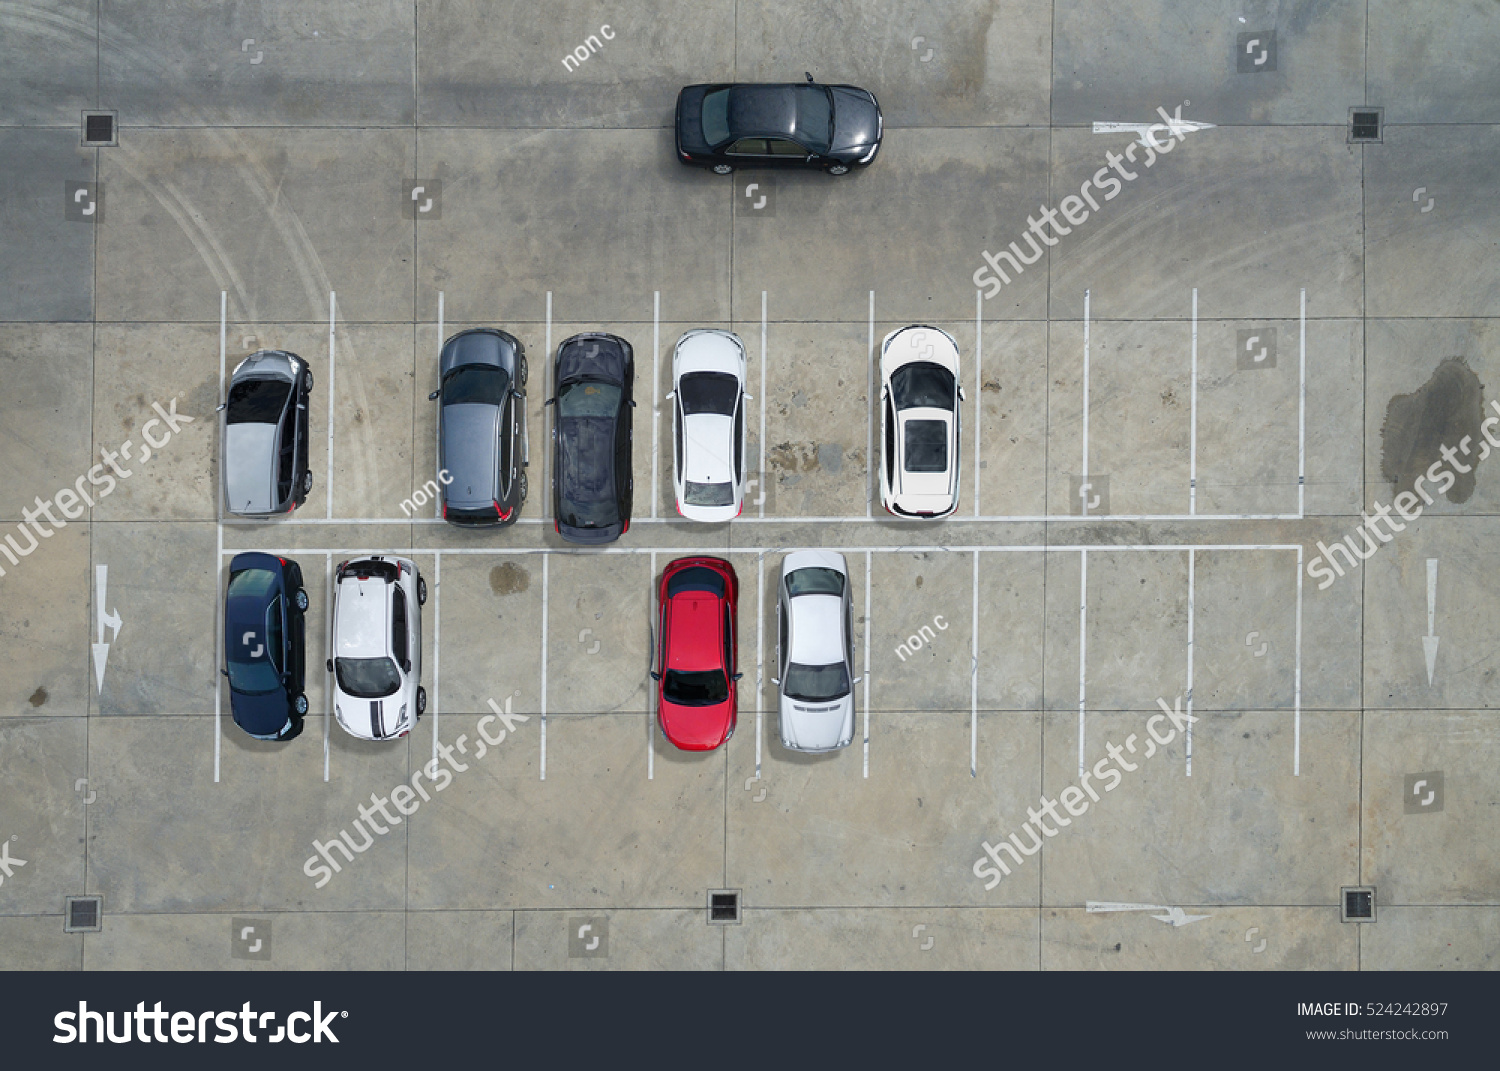Car: (432, 326, 534, 534), (325, 551, 429, 746), (650, 552, 743, 755), (873, 323, 964, 527), (661, 328, 753, 526), (774, 546, 860, 756), (220, 345, 318, 522)
LaneMark: (211, 289, 228, 785), (85, 555, 123, 702), (1413, 551, 1448, 688), (213, 545, 789, 553), (966, 546, 981, 784), (536, 551, 551, 784), (859, 546, 873, 785), (755, 287, 769, 523), (1078, 286, 1092, 520), (845, 544, 1303, 551), (753, 551, 766, 789), (1295, 287, 1308, 522), (1291, 542, 1304, 775), (325, 290, 337, 519), (646, 547, 657, 784), (973, 287, 984, 524), (865, 287, 876, 522), (1188, 286, 1200, 519), (1077, 546, 1088, 779), (1184, 547, 1195, 778), (430, 552, 442, 775), (651, 287, 661, 525), (961, 516, 1305, 519), (750, 515, 865, 524)
